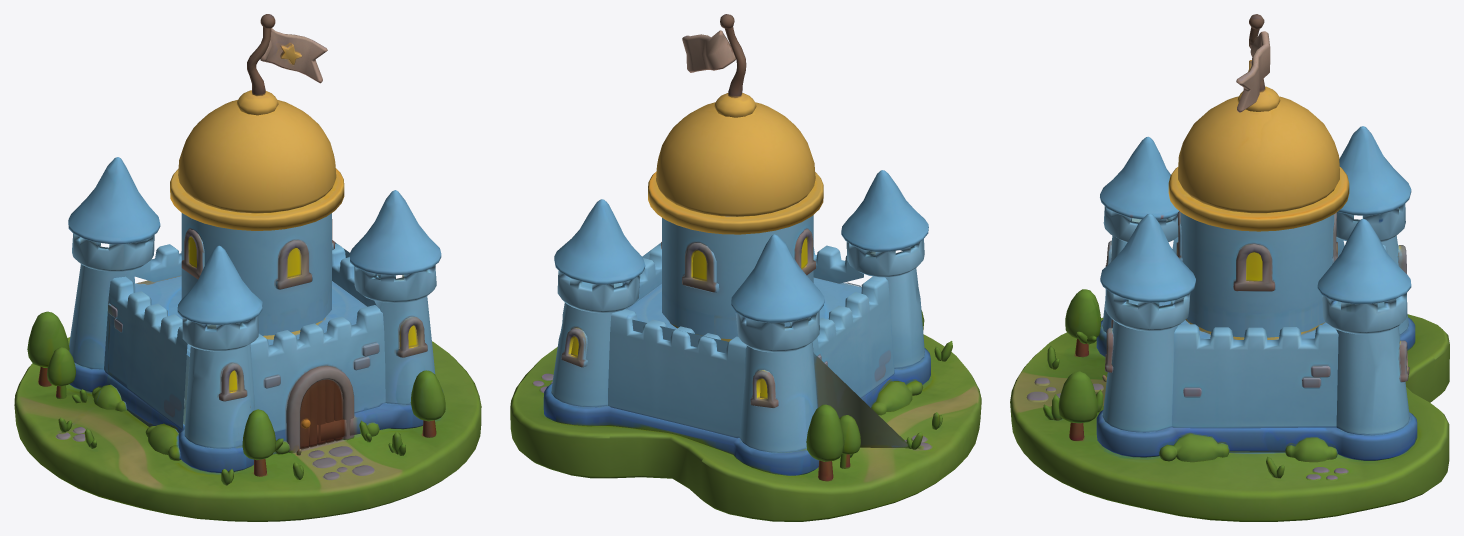
The model's file is Le Château Bleu (Faction Joueur).glb.
The picture shows the model from 3 angles, left to right: view 1: azimuth 30°, elevation 25°; view 2: azimuth 150°, elevation 25°; view 3: azimuth 270°, elevation 25°; orthographic projection. The views are drawn at different scales.
Parts seen in each view (by area): view 1: c8e71175_c390_4489_89c8_7b07ad03633a; view 2: c8e71175_c390_4489_89c8_7b07ad03633a; view 3: c8e71175_c390_4489_89c8_7b07ad03633a.
Part boxes in pixels (<box>): c8e71175_c390_4489_89c8_7b07ad03633a: <box>14,14,481,521</box>; c8e71175_c390_4489_89c8_7b07ad03633a: <box>510,14,981,521</box>; c8e71175_c390_4489_89c8_7b07ad03633a: <box>1010,14,1449,521</box>.
Size of the model in its own units: 0.9995 by 0.9722 by 0.9263.
Materials: 1 (1 with a texture image).
